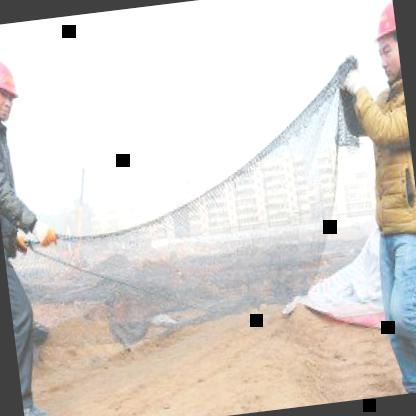helmet: (362, 0, 402, 87), (0, 52, 22, 122)
